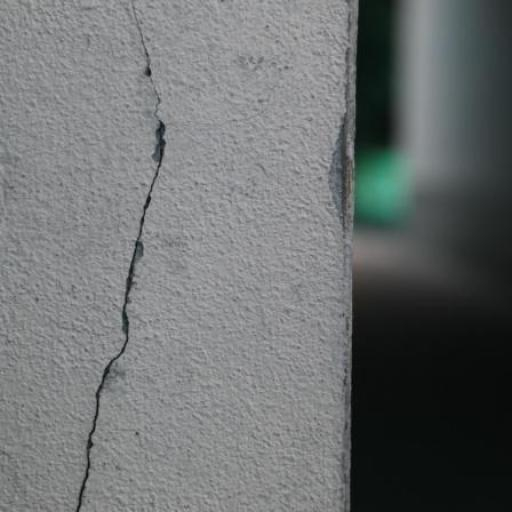spalling: (68, 9, 173, 508)
